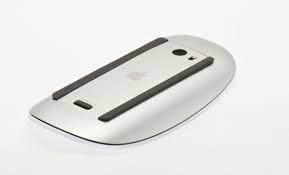mouse: (17, 15, 244, 155)
